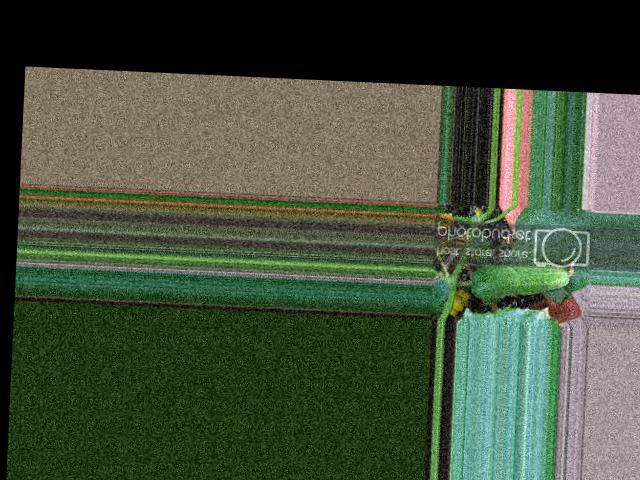cucumber: (471, 258, 571, 302)
